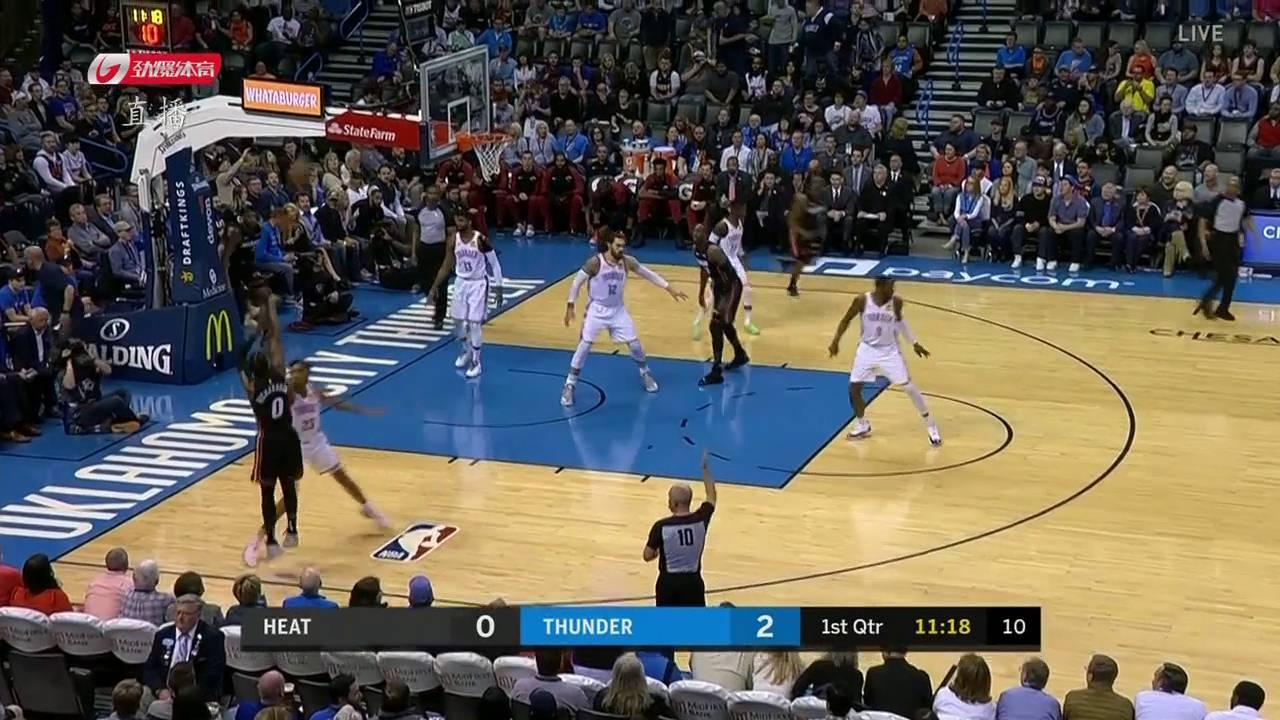basketball: (288, 159, 314, 187)
